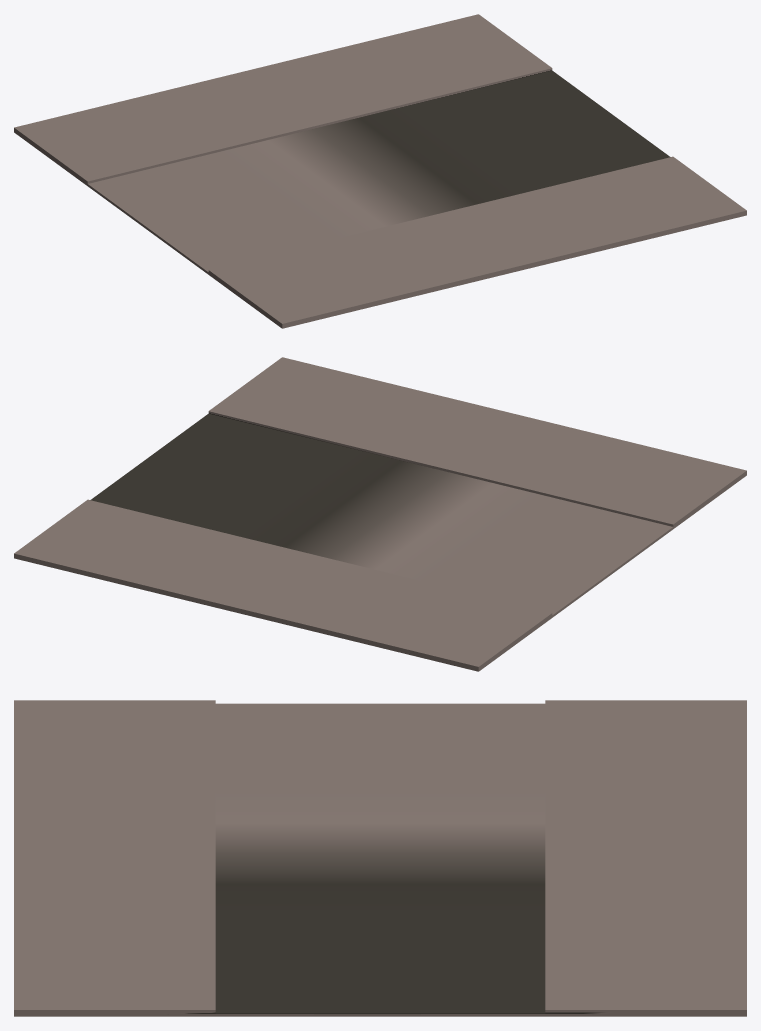
Rendered from Env_1lane_col.fbx.
The picture shows the model from 3 angles, top to bottom: view 1: azimuth 30°, elevation 25°; view 2: azimuth 150°, elevation 25°; view 3: azimuth 270°, elevation 25°; orthographic projection. The views are drawn at different scales.
Parts seen in each view (by area): view 1: Env_1lane_col; view 2: Env_1lane_col; view 3: Env_1lane_col.
Part boxes in pixels (left/top/right/bottom): Env_1lane_col: left=14, top=14, right=746, bottom=328; Env_1lane_col: left=14, top=357, right=746, bottom=671; Env_1lane_col: left=14, top=700, right=746, bottom=1016.
Size of the model in its own units: 2000 by 20 by 2000.
